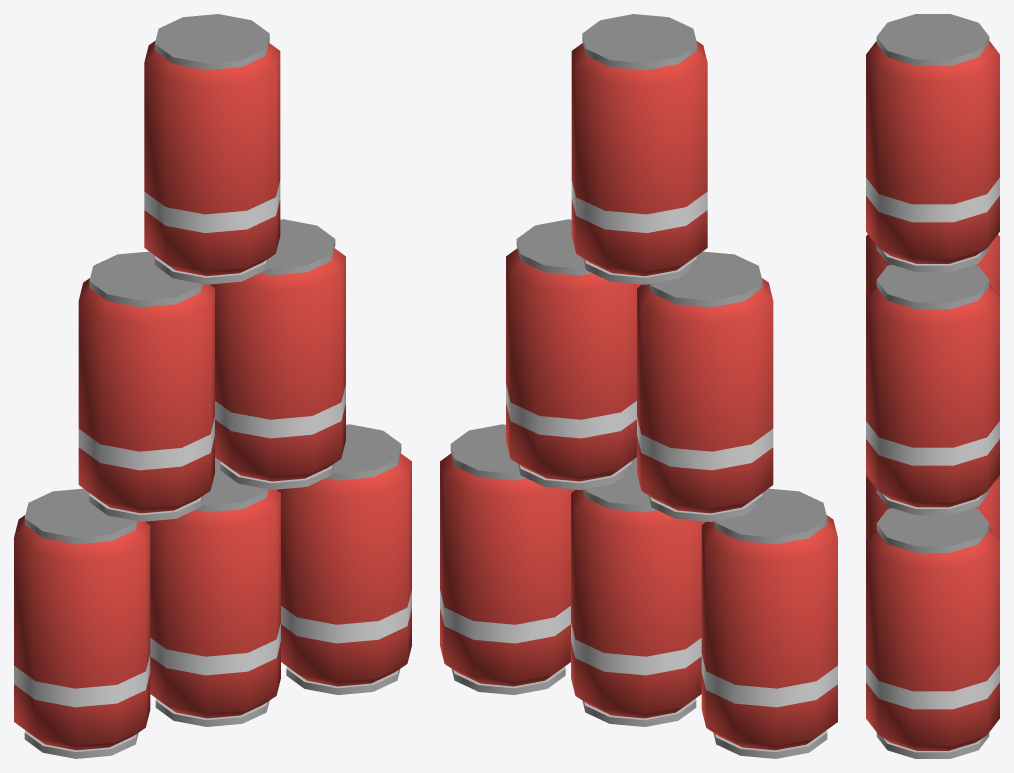
The model's file is can_pyramid.glb.
The picture shows the model from 3 angles, left to right: view 1: azimuth 30°, elevation 25°; view 2: azimuth 150°, elevation 25°; view 3: azimuth 270°, elevation 25°; orthographic projection. The views are drawn at different scales.
Parts seen in each view (by area): view 1: can_pyramid; view 2: can_pyramid; view 3: can_pyramid.
Boxes of the visible parts, <box> form: can_pyramid: <box>14,14,411,758</box>; can_pyramid: <box>440,14,837,758</box>; can_pyramid: <box>866,14,999,758</box>.
Bounding box in the file's own units: 0.5295 × 0.8923 × 0.1697.
